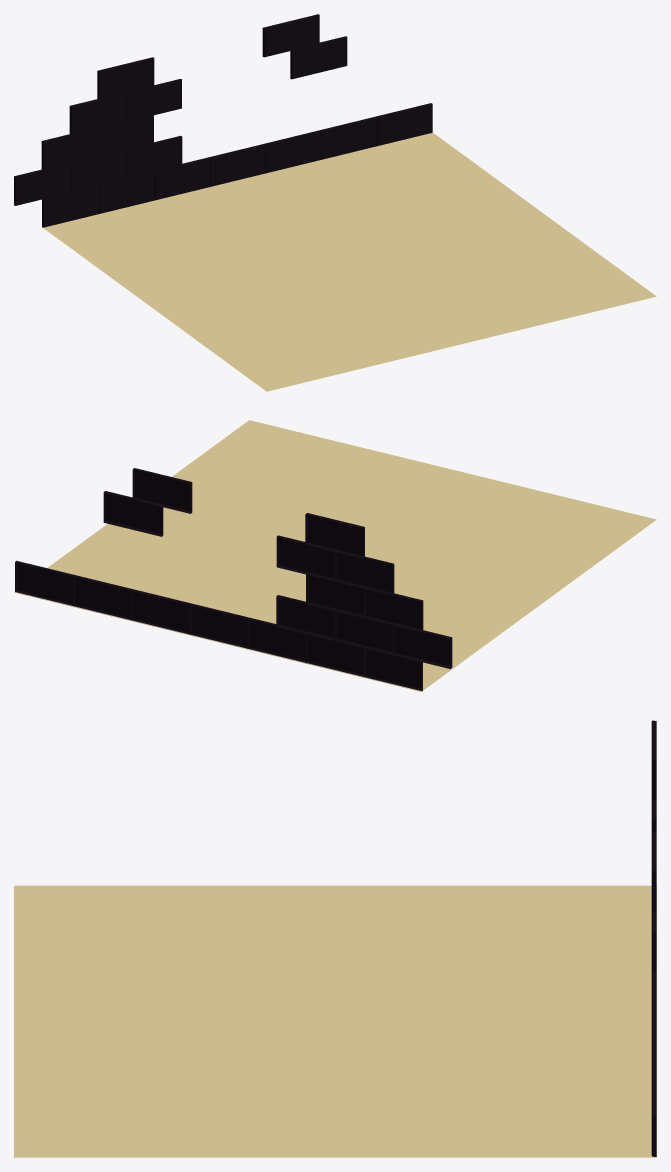
File: side_bottom_brick.FBX
3 views of the same model, one above another, from view 1: azimuth 30°, elevation 25°; view 2: azimuth 150°, elevation 25°; view 3: azimuth 270°, elevation 25° (orthographic). The views are drawn at different scales.
Parts seen in each view (by area): view 1: Box001, Brick030, Brick025, Brick006, Brick027, Brick019, Brick022, Brick007, Brick003, Brick005, Brick026, Brick017 (+6 smaller); view 2: Box001, Brick027, Brick030, Brick026, Brick005, Brick001, Brick022, Brick002, Brick003, Brick004, Brick023, Brick025 (+6 smaller); view 3: Box001.
Part boxes in pixels (x1=…): Box001: x1=42, y1=132, x2=656, y2=391; Brick030: x1=262, y1=14, x2=319, y2=57; Brick025: x1=97, y1=57, x2=154, y2=99; Brick006: x1=264, y1=130, x2=321, y2=173; Brick027: x1=290, y1=36, x2=347, y2=79; Brick019: x1=41, y1=129, x2=98, y2=170; Brick022: x1=69, y1=93, x2=126, y2=135; Brick007: x1=376, y1=103, x2=432, y2=146; Brick003: x1=209, y1=144, x2=265, y2=186; Brick005: x1=320, y1=116, x2=376, y2=159; Brick026: x1=14, y1=164, x2=70, y2=205; Brick017: x1=126, y1=135, x2=182, y2=178; Box001: x1=14, y1=420, x2=656, y2=691; Brick027: x1=103, y1=491, x2=163, y2=536; Brick030: x1=132, y1=468, x2=192, y2=513; Brick026: x1=392, y1=623, x2=452, y2=668; Brick005: x1=73, y1=575, x2=132, y2=620; Brick001: x1=363, y1=646, x2=422, y2=691; Brick022: x1=334, y1=549, x2=394, y2=595; Brick002: x1=305, y1=631, x2=364, y2=677; Brick003: x1=189, y1=603, x2=248, y2=648; Brick004: x1=247, y1=617, x2=306, y2=662; Brick023: x1=276, y1=535, x2=335, y2=581; Brick025: x1=305, y1=513, x2=364, y2=558; Box001: x1=14, y1=885, x2=656, y2=1157.
Bounding box in the file's own units: 64.26 × 60 × 21.44.
